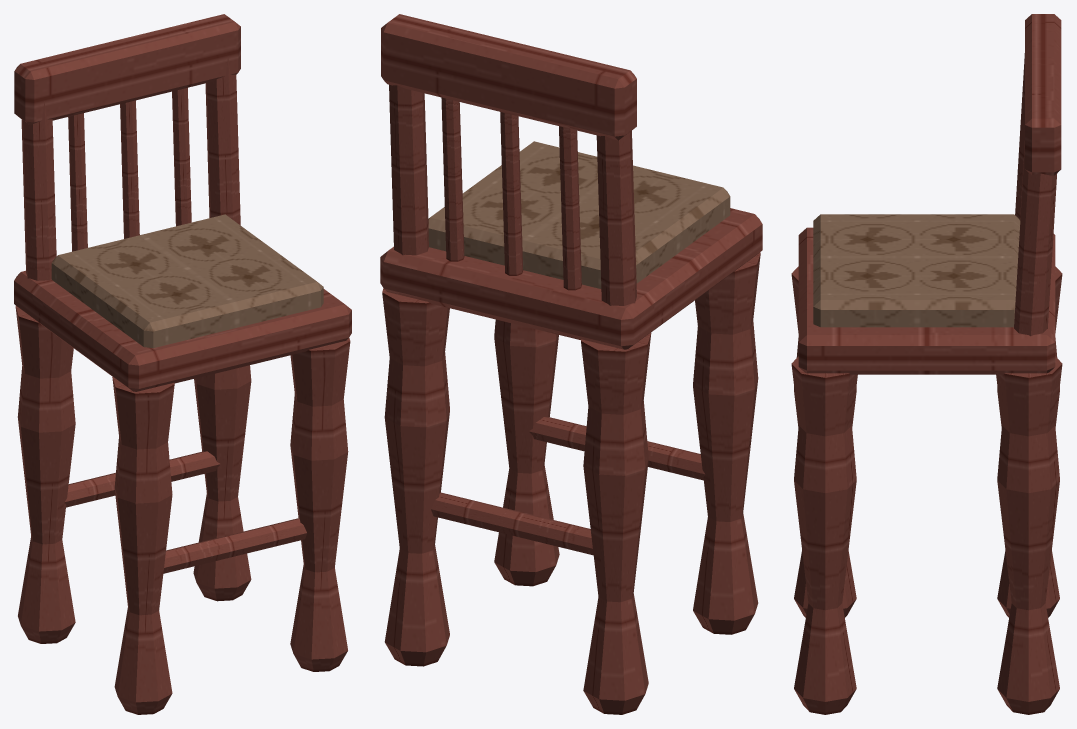
File: MD_43_BarStool.fbx
3 renders of one model, left to right at view 1: azimuth 30°, elevation 25°; view 2: azimuth 150°, elevation 25°; view 3: azimuth 270°, elevation 25°, orthographic. The views are drawn at different scales.
Visible parts, largest first — view 1: MD_43_BarStool_seat_pad, MD_43_BarStool_turned_leg, MD_43_BarStool_turned_leg.002, MD_43_BarStool_turned_leg.001, MD_43_BarStool_seat, MD_43_BarStool_carved_back_rail, MD_43_BarStool_turned_leg.003, MD_43_BarStool_back_post, MD_43_BarStool_back_post.001, MD_43_BarStool_footrest, MD_43_BarStool_back_spindle.001, MD_43_BarStool_back_spindle.002 (+2 smaller); view 2: MD_43_BarStool_turned_leg.001, MD_43_BarStool_seat, MD_43_BarStool_turned_leg.003, MD_43_BarStool_turned_leg, MD_43_BarStool_seat_pad, MD_43_BarStool_carved_back_rail, MD_43_BarStool_turned_leg.002, MD_43_BarStool_back_post, MD_43_BarStool_back_post.001, MD_43_BarStool_footrest.001, MD_43_BarStool_back_spindle, MD_43_BarStool_back_spindle.002 (+2 smaller); view 3: MD_43_BarStool_seat_pad, MD_43_BarStool_turned_leg.002, MD_43_BarStool_turned_leg.003, MD_43_BarStool_seat, MD_43_BarStool_carved_back_rail, MD_43_BarStool_back_post.001, MD_43_BarStool_turned_leg, MD_43_BarStool_turned_leg.001, MD_43_BarStool_back_post.
Boxes of the visible parts, x1,y1,x2,y2 form: MD_43_BarStool_seat_pad: [51, 214, 323, 348]; MD_43_BarStool_turned_leg: [112, 377, 174, 714]; MD_43_BarStool_turned_leg.002: [290, 338, 350, 671]; MD_43_BarStool_turned_leg.001: [15, 306, 75, 643]; MD_43_BarStool_seat: [14, 270, 351, 391]; MD_43_BarStool_carved_back_rail: [14, 14, 240, 125]; MD_43_BarStool_turned_leg.003: [193, 365, 251, 601]; MD_43_BarStool_back_post: [21, 101, 56, 280]; MD_43_BarStool_back_post.001: [205, 56, 240, 225]; MD_43_BarStool_footrest: [163, 518, 306, 573]; MD_43_BarStool_back_spindle.001: [120, 100, 139, 238]; MD_43_BarStool_back_spindle.002: [172, 87, 191, 226]; MD_43_BarStool_turned_leg.001: [581, 332, 651, 714]; MD_43_BarStool_seat: [380, 208, 762, 349]; MD_43_BarStool_turned_leg.003: [382, 288, 449, 666]; MD_43_BarStool_turned_leg: [693, 252, 760, 634]; MD_43_BarStool_seat_pad: [428, 141, 730, 288]; MD_43_BarStool_carved_back_rail: [381, 14, 636, 140]; MD_43_BarStool_turned_leg.002: [494, 319, 559, 586]; MD_43_BarStool_back_post: [596, 131, 636, 305]; MD_43_BarStool_back_post.001: [389, 84, 428, 255]; MD_43_BarStool_footrest.001: [431, 492, 593, 555]; MD_43_BarStool_back_spindle: [559, 126, 581, 290]; MD_43_BarStool_back_spindle.002: [441, 97, 464, 261]; MD_43_BarStool_seat_pad: [813, 214, 1020, 327]; MD_43_BarStool_turned_leg.002: [791, 356, 857, 714]; MD_43_BarStool_turned_leg.003: [996, 356, 1062, 714]; MD_43_BarStool_seat: [798, 227, 1055, 374]; MD_43_BarStool_carved_back_rail: [1025, 14, 1061, 175]; MD_43_BarStool_back_post.001: [1014, 147, 1057, 336]; MD_43_BarStool_turned_leg: [791, 266, 856, 617]; MD_43_BarStool_turned_leg.001: [997, 266, 1062, 617]; MD_43_BarStool_back_post: [1015, 53, 1024, 220].
Size of the model in its own units: 0.58 by 1.36 by 0.56.
2 materials, 2 textured.
